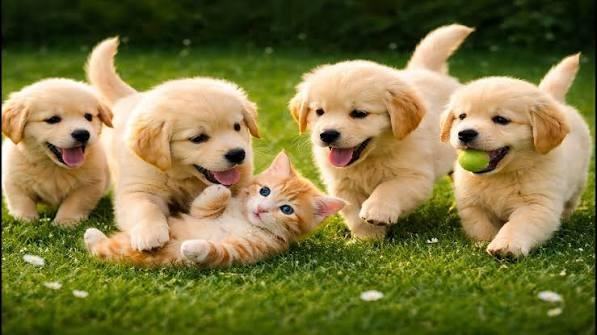non-dog: (83, 148, 351, 275)
puppy-dog: (288, 23, 481, 241), (81, 34, 261, 254), (439, 51, 594, 262), (1, 79, 114, 227)
